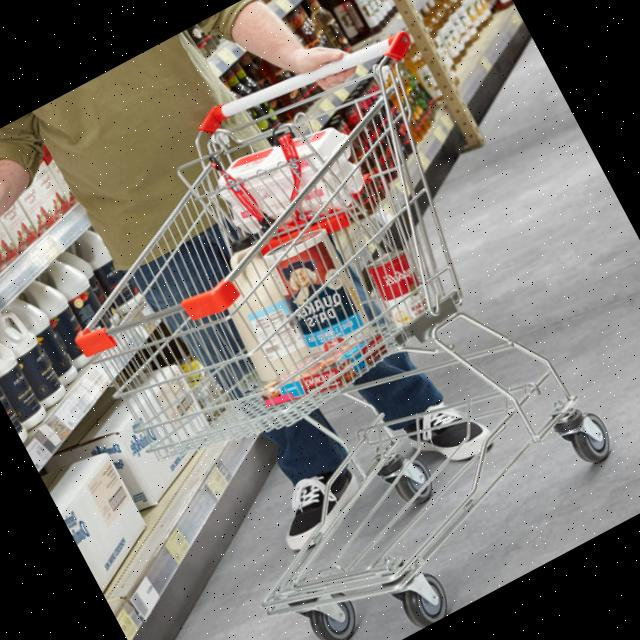Person: (0, 0, 542, 608)
